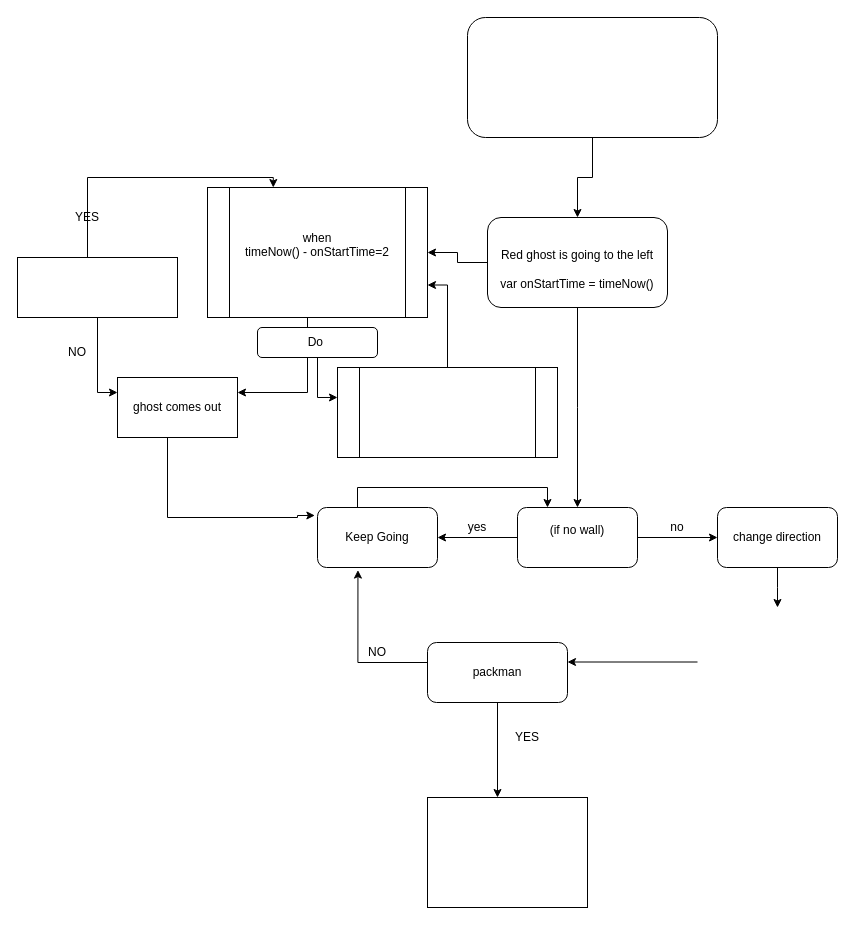
Image size: 855x925. Some labels were removed from this diagram. Each missing label, with the box of its shape:
if number of ghost = 4: (16, 256, 178, 318)
onStartTime = Reset: 0: (336, 366, 558, 458)
Start: (466, 16, 718, 138)
You win: (426, 796, 588, 908)
